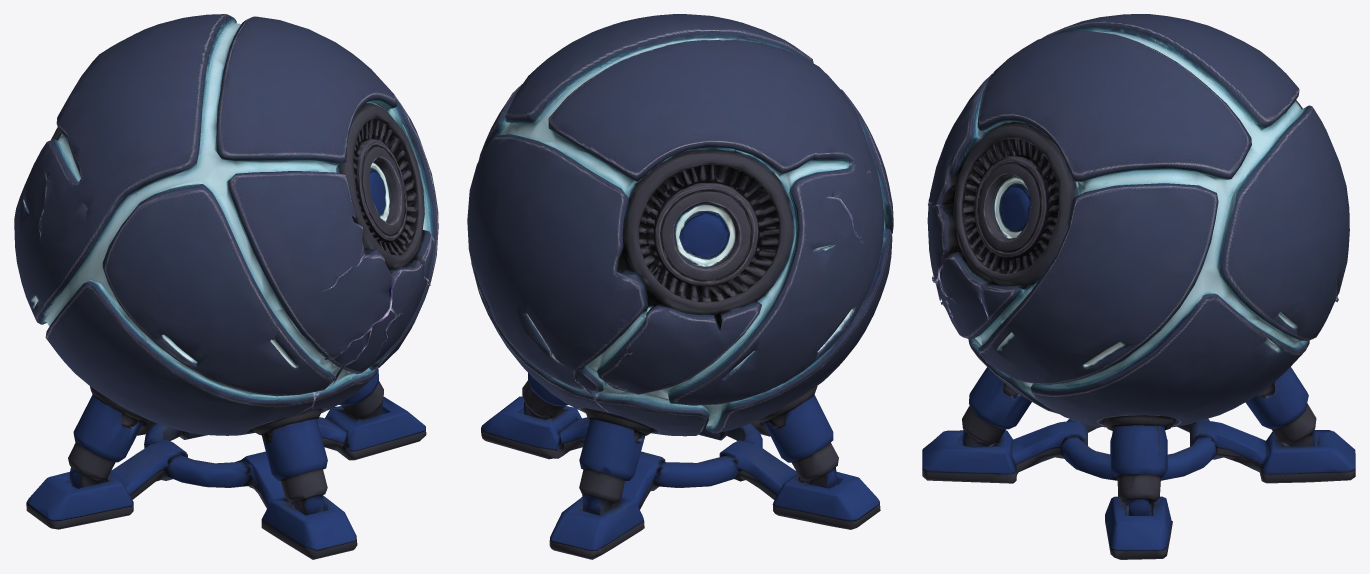
The model's file is midground_excavator_robot.glb.
3 renders of one model, left to right at view 1: azimuth 30°, elevation 25°; view 2: azimuth 150°, elevation 25°; view 3: azimuth 270°, elevation 25°, orthographic.
Parts seen in each view (by area): view 1: tripo_node_50787a7a-595d-4112-b723-c2d7ac4b59d7; view 2: tripo_node_50787a7a-595d-4112-b723-c2d7ac4b59d7; view 3: tripo_node_50787a7a-595d-4112-b723-c2d7ac4b59d7.
Part boxes in pixels (box(x1,y1,x2,y2)): tripo_node_50787a7a-595d-4112-b723-c2d7ac4b59d7: box(14, 14, 438, 559); tripo_node_50787a7a-595d-4112-b723-c2d7ac4b59d7: box(467, 14, 893, 559); tripo_node_50787a7a-595d-4112-b723-c2d7ac4b59d7: box(922, 14, 1355, 559).
Size of the model in its own units: 0.8936 by 1 by 0.9.
1 material, 1 textured.
